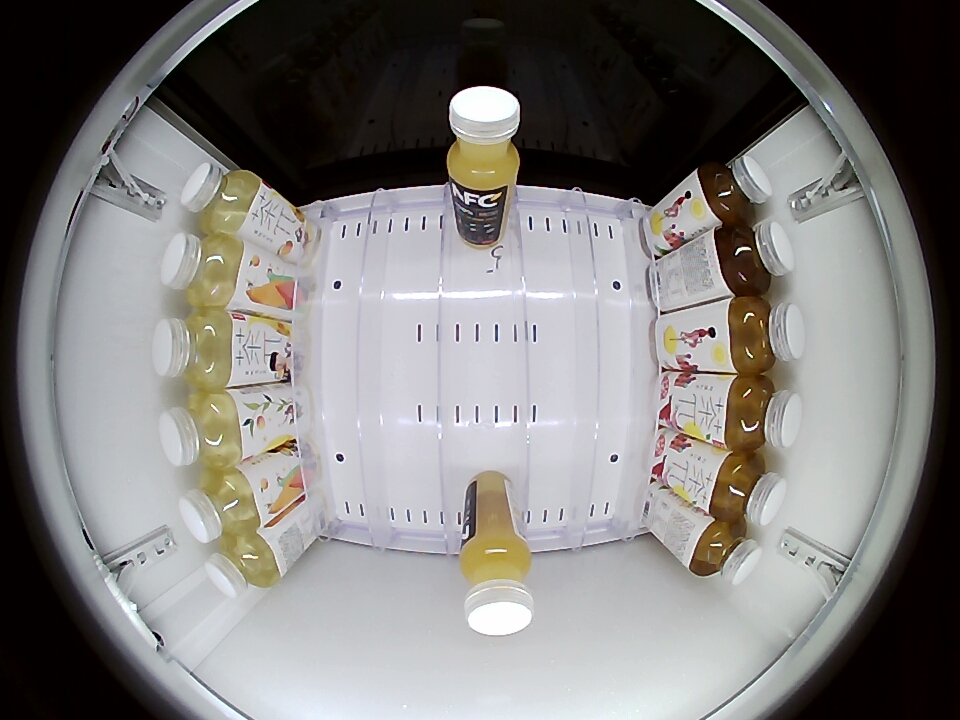chapai: (726, 296, 805, 375), (723, 375, 803, 452), (715, 221, 795, 296), (708, 453, 787, 525), (696, 154, 773, 225), (687, 517, 762, 584)
chapai2: (159, 390, 244, 468), (153, 310, 235, 389), (161, 232, 245, 309), (179, 467, 261, 541), (181, 162, 262, 235), (204, 529, 282, 598)
nfc: (445, 85, 523, 193), (459, 532, 534, 635)
